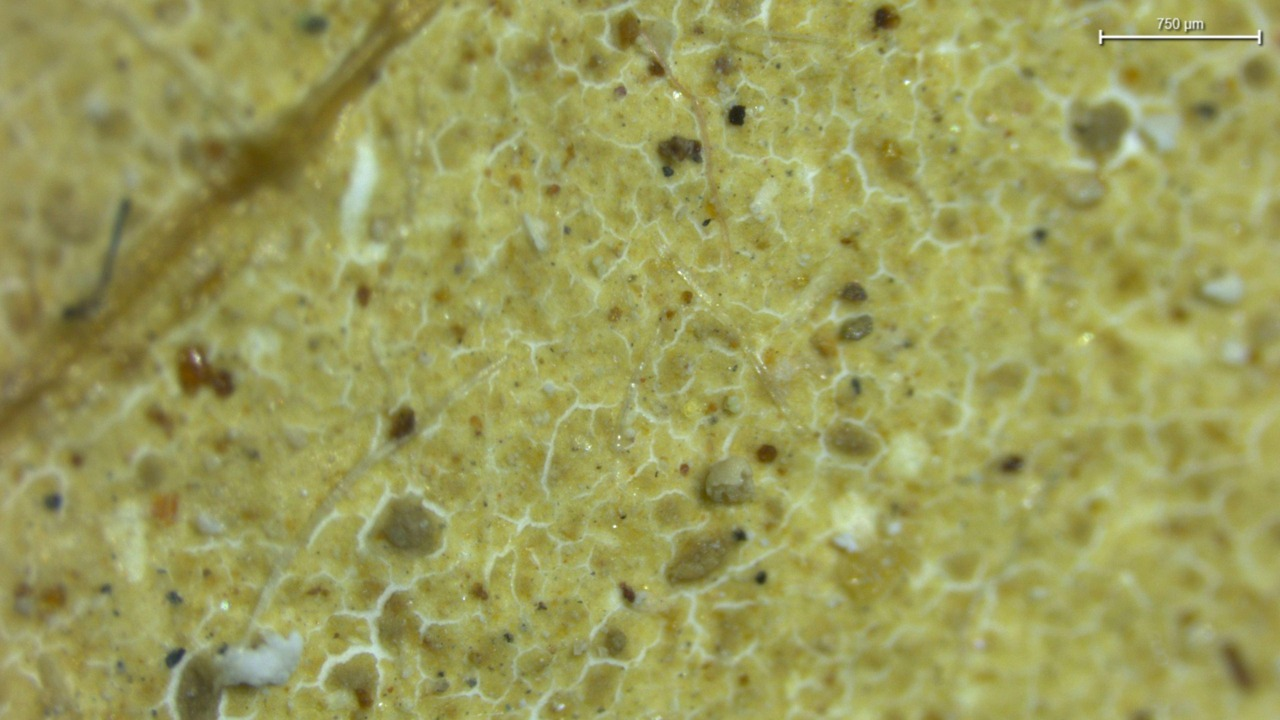microplastic_fragment: (217, 631, 303, 687), (705, 457, 753, 503)
